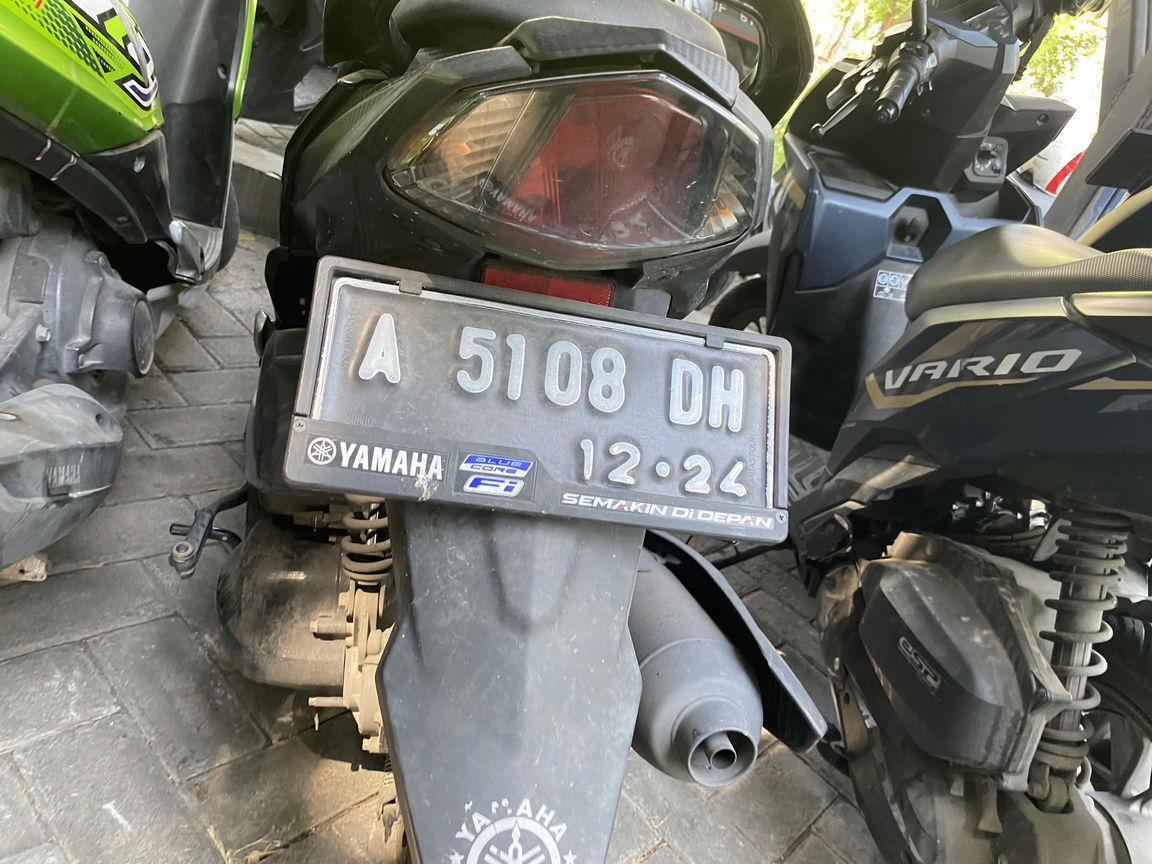plat: (288, 259, 788, 540)
